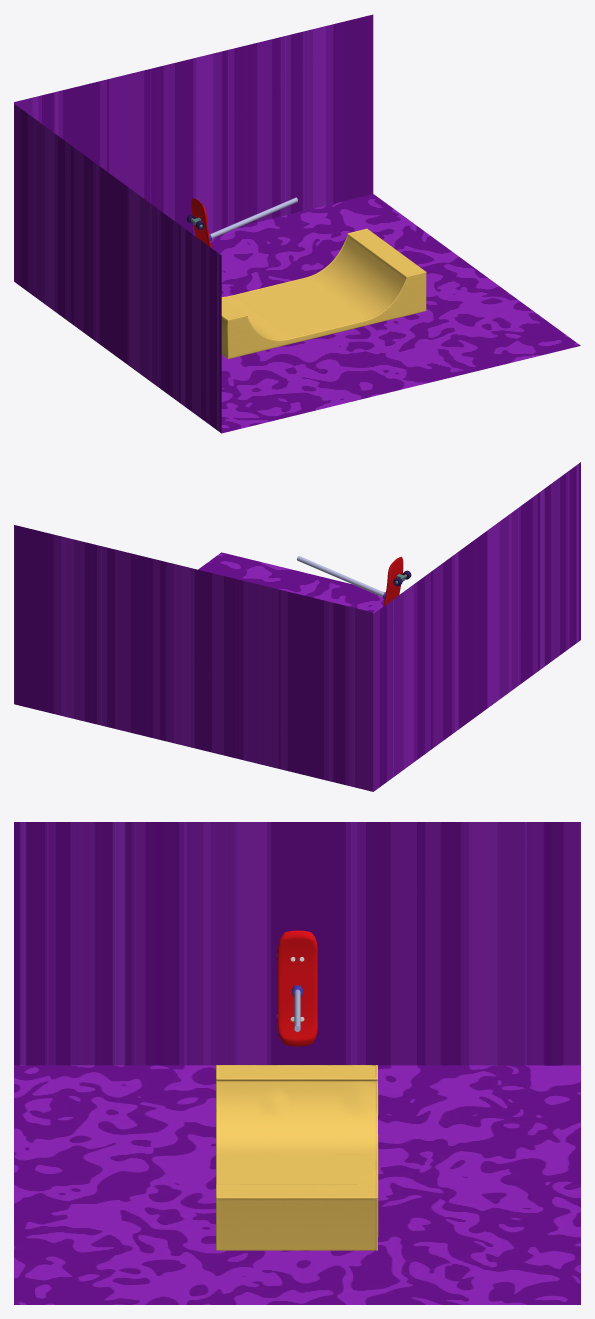
The model's file is pendulumskate_modelo.glb.
3 renders of one model, top to bottom at view 1: azimuth 30°, elevation 25°; view 2: azimuth 150°, elevation 25°; view 3: azimuth 270°, elevation 25°, orthographic. The views are drawn at different scales.
Parts seen in each view (by area): view 1: Plane.002, node_0, Cylinder.002; view 2: Plane.002, Cylinder.002; view 3: Plane.002, node_0, Cylinder.002.
Part boxes in pixels (bbox=[...]): Plane.002: bbox=[14, 14, 580, 433]; node_0: bbox=[221, 228, 426, 359]; Cylinder.002: bbox=[186, 197, 297, 247]; Plane.002: bbox=[14, 462, 580, 791]; Cylinder.002: bbox=[297, 556, 411, 606]; Plane.002: bbox=[14, 822, 580, 1304]; node_0: bbox=[216, 1065, 378, 1250]; Cylinder.002: bbox=[276, 930, 317, 1046].
Size of the model in its own units: 25.19 by 12.03 by 25.19.
Materials: 17 (1 with a texture image).
